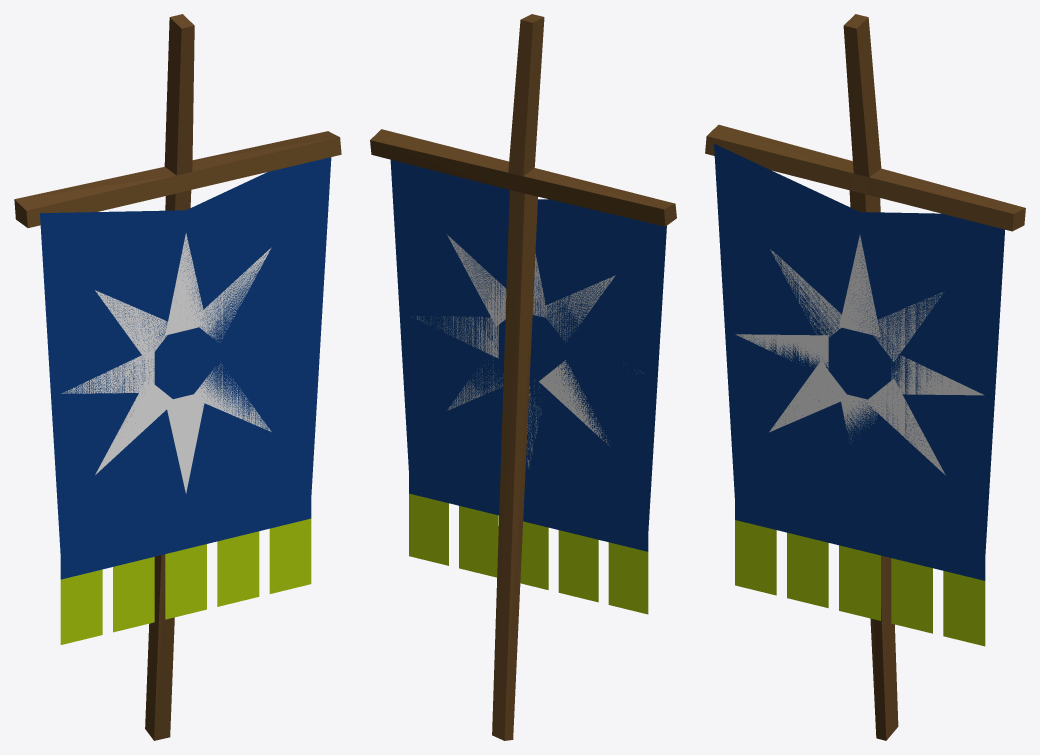
The model's file is model_loc_854_8.obj.
3 renders of one model, left to right at view 1: azimuth 30°, elevation 25°; view 2: azimuth 150°, elevation 25°; view 3: azimuth 330°, elevation 25°, orthographic. The views are drawn at different scales.
Parts seen in each view (by area): view 1: 1536; view 2: 1536; view 3: 1536.
Part boxes in pixels (x1,y1,x2,y2): 1536: [14, 14, 341, 740]; 1536: [370, 14, 676, 740]; 1536: [705, 14, 1025, 740].
Bounding box in the file's own units: 119 × 270 × 26.
